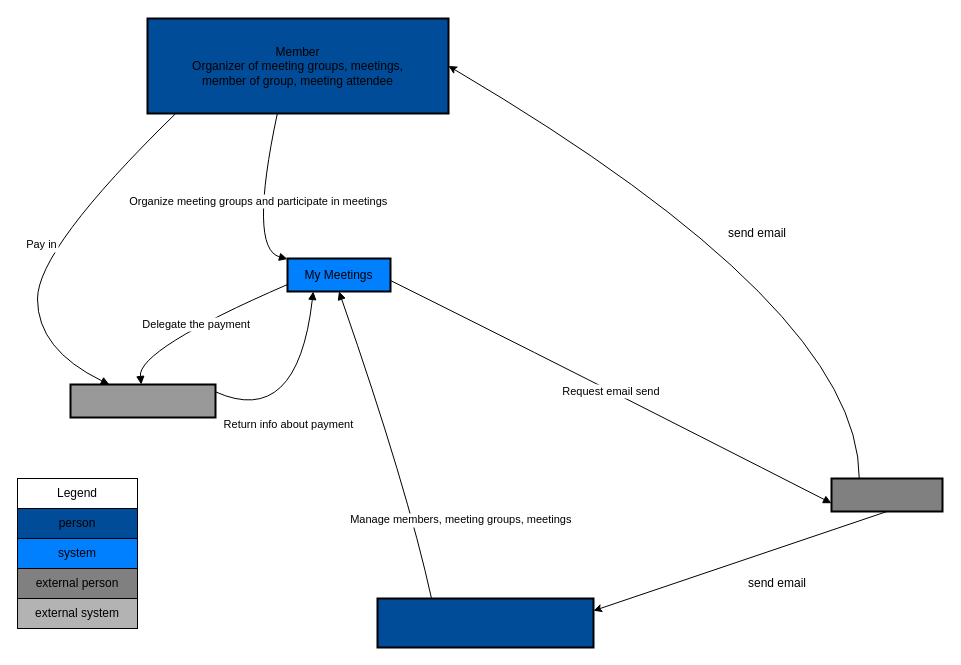
The diagram is 961 pixels wide and 665 high, and some of its shapes have lost their labels. The box of each missing label's shape, as (x1, y1, x2, y2) in pixels:
Administrator Administrator of the system: (376, 597, 594, 648)
Email Service: (830, 477, 943, 512)
Payment Gateway: (69, 383, 216, 418)
